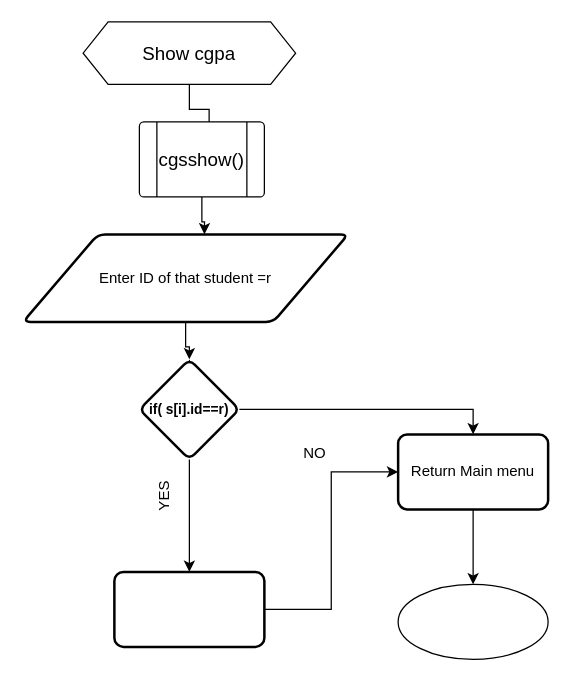
Image size: 570x681. Some labels were removed from this diagram. The shapes that lost their labels are listed below. From the top down, each one's centre as x and y in pixels, then its label:
At point (188, 609): "Print info with marks and cgpa".
At point (472, 621): "End".
